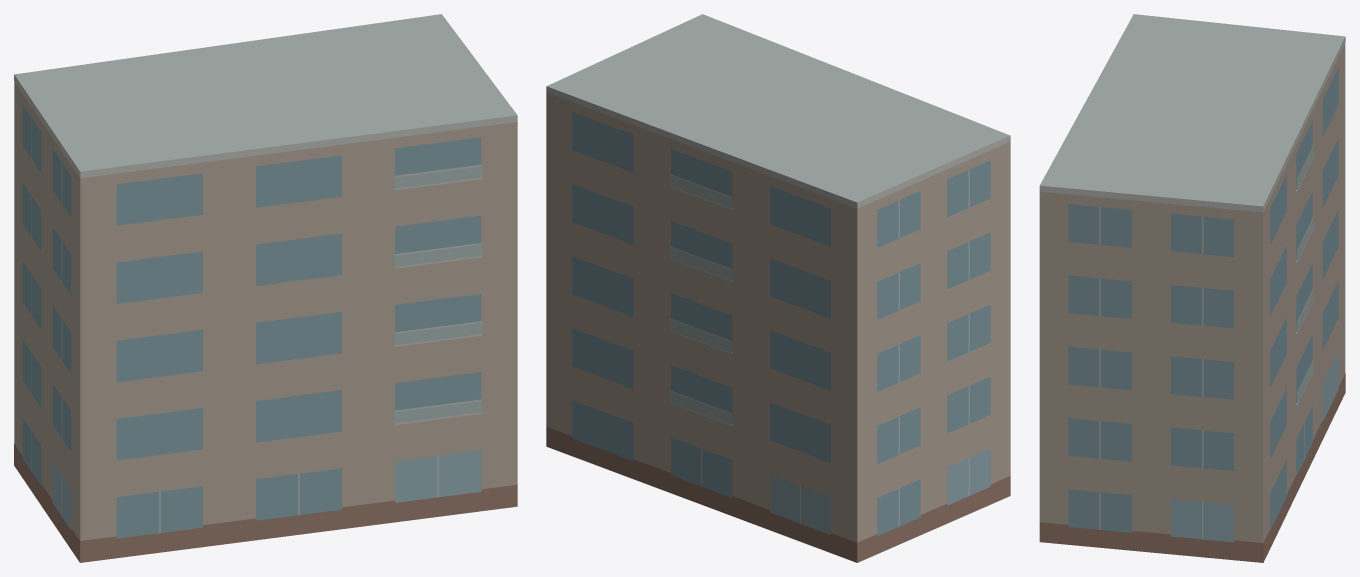
Rendered from survey-upis-32557095.glb.
The picture shows the model from 3 angles, left to right: view 1: azimuth 30°, elevation 25°; view 2: azimuth 150°, elevation 25°; view 3: azimuth 270°, elevation 25°; orthographic projection. The views are drawn at different scales.
Visible parts, largest first — view 1: survey-upis-32557095.tmp; view 2: survey-upis-32557095.tmp; view 3: survey-upis-32557095.tmp.
Boxes of the visible parts, x1,y1,x2,y2 form: survey-upis-32557095.tmp: (14,14,517,562); survey-upis-32557095.tmp: (546,14,1010,562); survey-upis-32557095.tmp: (1039,14,1345,562).
Size of the model in its own units: 16.68 by 14.4 by 11.21.
